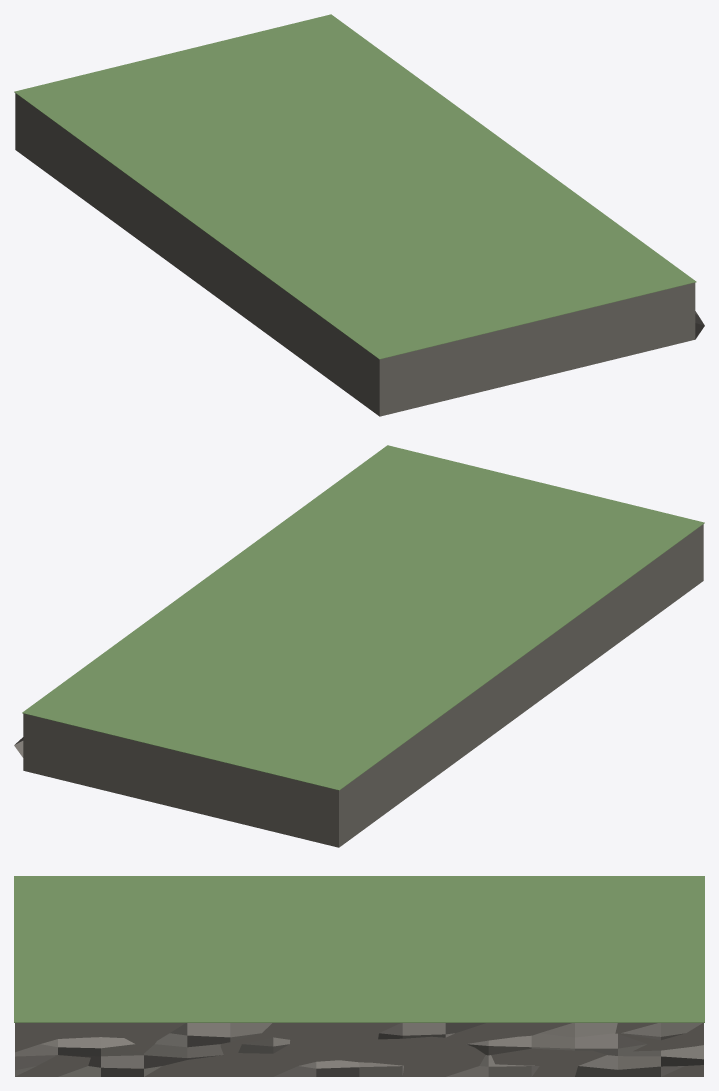
The model's file is cliff.glb.
3 views of the same model, one above another, from view 1: azimuth 30°, elevation 25°; view 2: azimuth 150°, elevation 25°; view 3: azimuth 270°, elevation 25° (orthographic). The views are drawn at different scales.
Parts seen in each view (by area): view 1: cliff; view 2: cliff; view 3: cliff.
Boxes of the visible parts, x1,y1,x2,y2 form: cliff: (14,14,704,416); cliff: (14,445,704,847); cliff: (14,876,704,1076).
Bounding box in the file's own units: 82.69 × 14.05 × 160.
